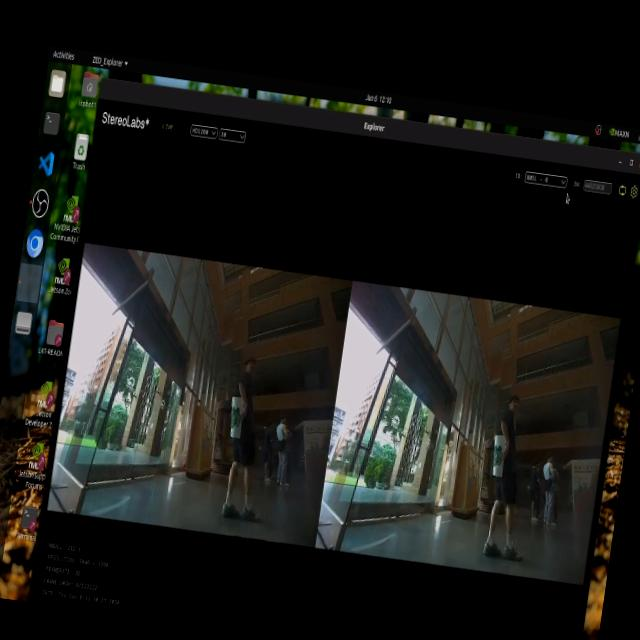green: (226, 401, 243, 442), (492, 438, 506, 467)
